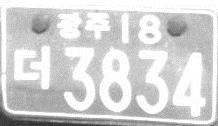1: (119, 11, 131, 45)
3: (135, 48, 169, 114), (63, 45, 96, 111)
4: (170, 51, 207, 118)
8: (98, 47, 133, 112), (137, 13, 162, 44)
광주_O: (56, 9, 111, 40)
더: (12, 44, 51, 91)
